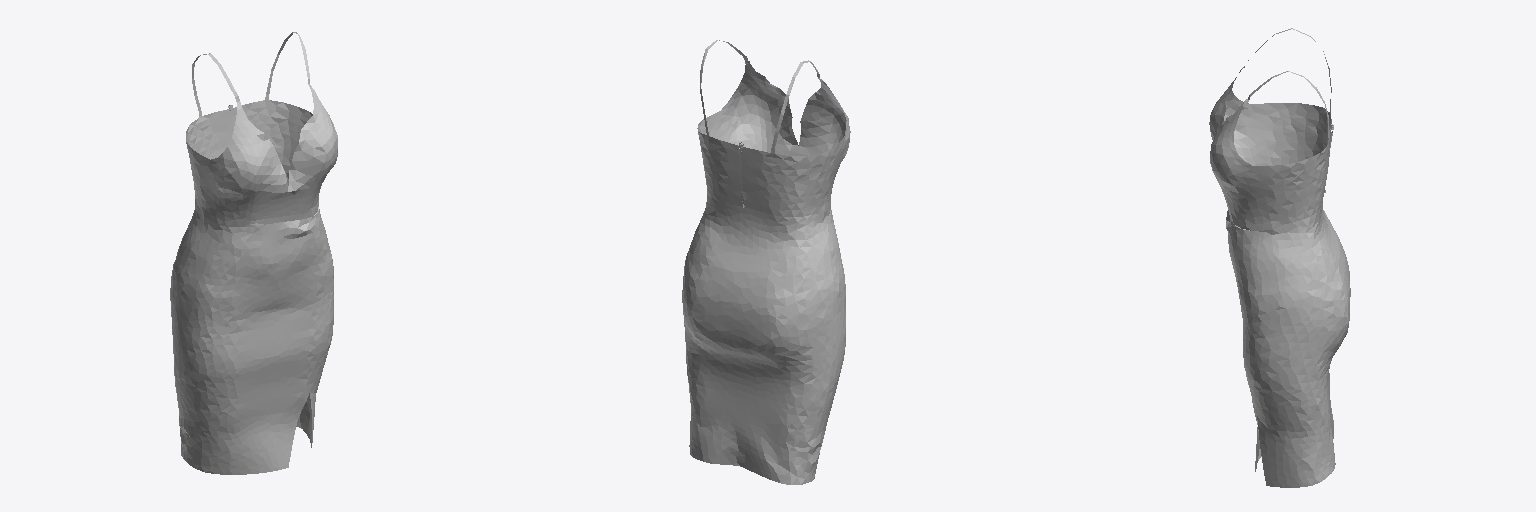
The model's file is small_roseDress_noinside6.obj.
3 renders of one model, left to right at view 1: azimuth 30°, elevation 25°; view 2: azimuth 150°, elevation 25°; view 3: azimuth 270°, elevation 25°, orthographic.
Visible parts, largest first — view 1: small_roseDress_noinside:polySurface2 small_roseDress_noinside:p; view 2: small_roseDress_noinside:polySurface2 small_roseDress_noinside:p; view 3: small_roseDress_noinside:polySurface2 small_roseDress_noinside:p.
Part boxes in pixels (bbox=[...]): small_roseDress_noinside:polySurface2 small_roseDress_noinside:p: bbox=[170, 32, 337, 474]; small_roseDress_noinside:polySurface2 small_roseDress_noinside:p: bbox=[682, 40, 850, 484]; small_roseDress_noinside:polySurface2 small_roseDress_noinside:p: bbox=[1209, 28, 1350, 487].
Bounding box in the file's own units: 3.26 × 8.78 × 2.7.